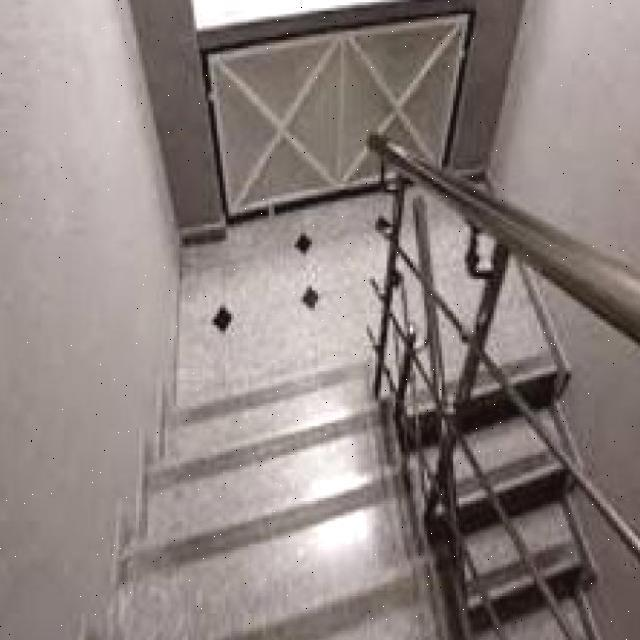stair: (134, 392, 402, 573)
